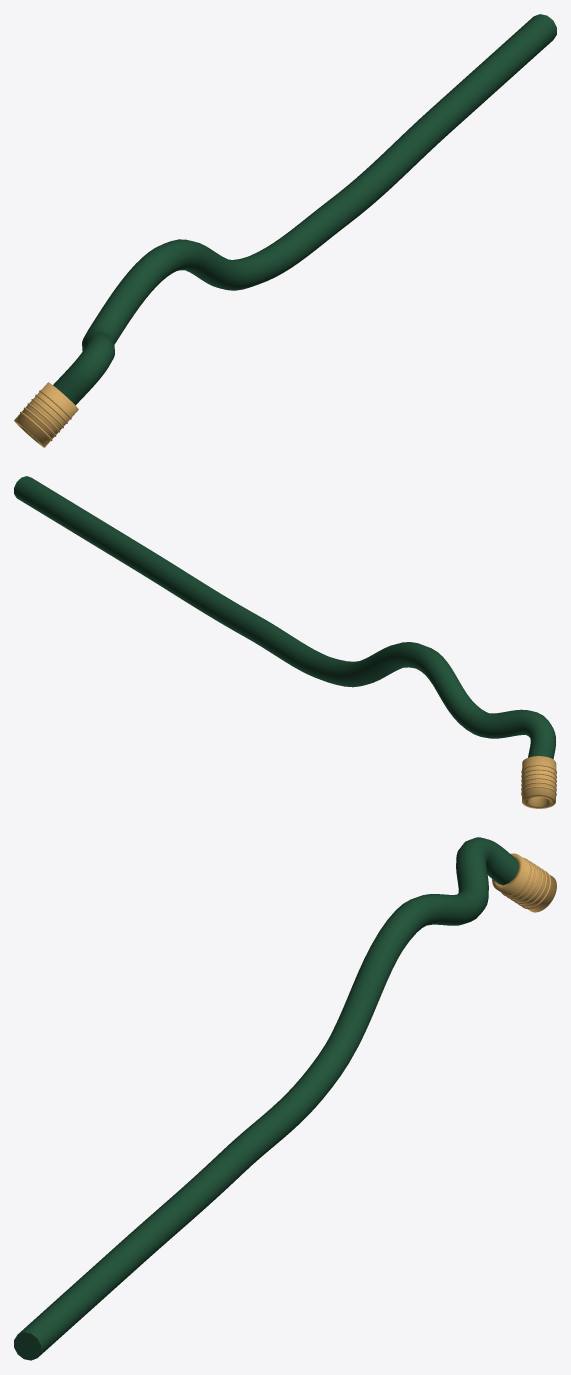
The model's file is hero-hose-and-nozzle.glb.
3 renders of one model, top to bottom at view 1: azimuth 90°, elevation 25°; view 2: azimuth 150°, elevation 25°; view 3: azimuth 270°, elevation 25°, orthographic. The views are drawn at different scales.
Parts seen in each view (by area): view 1: Draped forest green hose, Hollow machined nozzle; view 2: Draped forest green hose, Hollow machined nozzle; view 3: Draped forest green hose, Hollow machined nozzle.
Boxes of the visible parts, x1,y1,x2,y2 form: Draped forest green hose: [53, 14, 556, 405]; Hollow machined nozzle: [14, 382, 78, 447]; Draped forest green hose: [14, 476, 555, 759]; Hollow machined nozzle: [522, 756, 556, 808]; Draped forest green hose: [14, 837, 518, 1360]; Hollow machined nozzle: [492, 853, 556, 912].
Size of the model in its own units: 0.8098 by 0.1082 by 0.4224.
